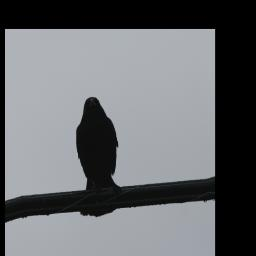Crow: (67, 92, 129, 221)
